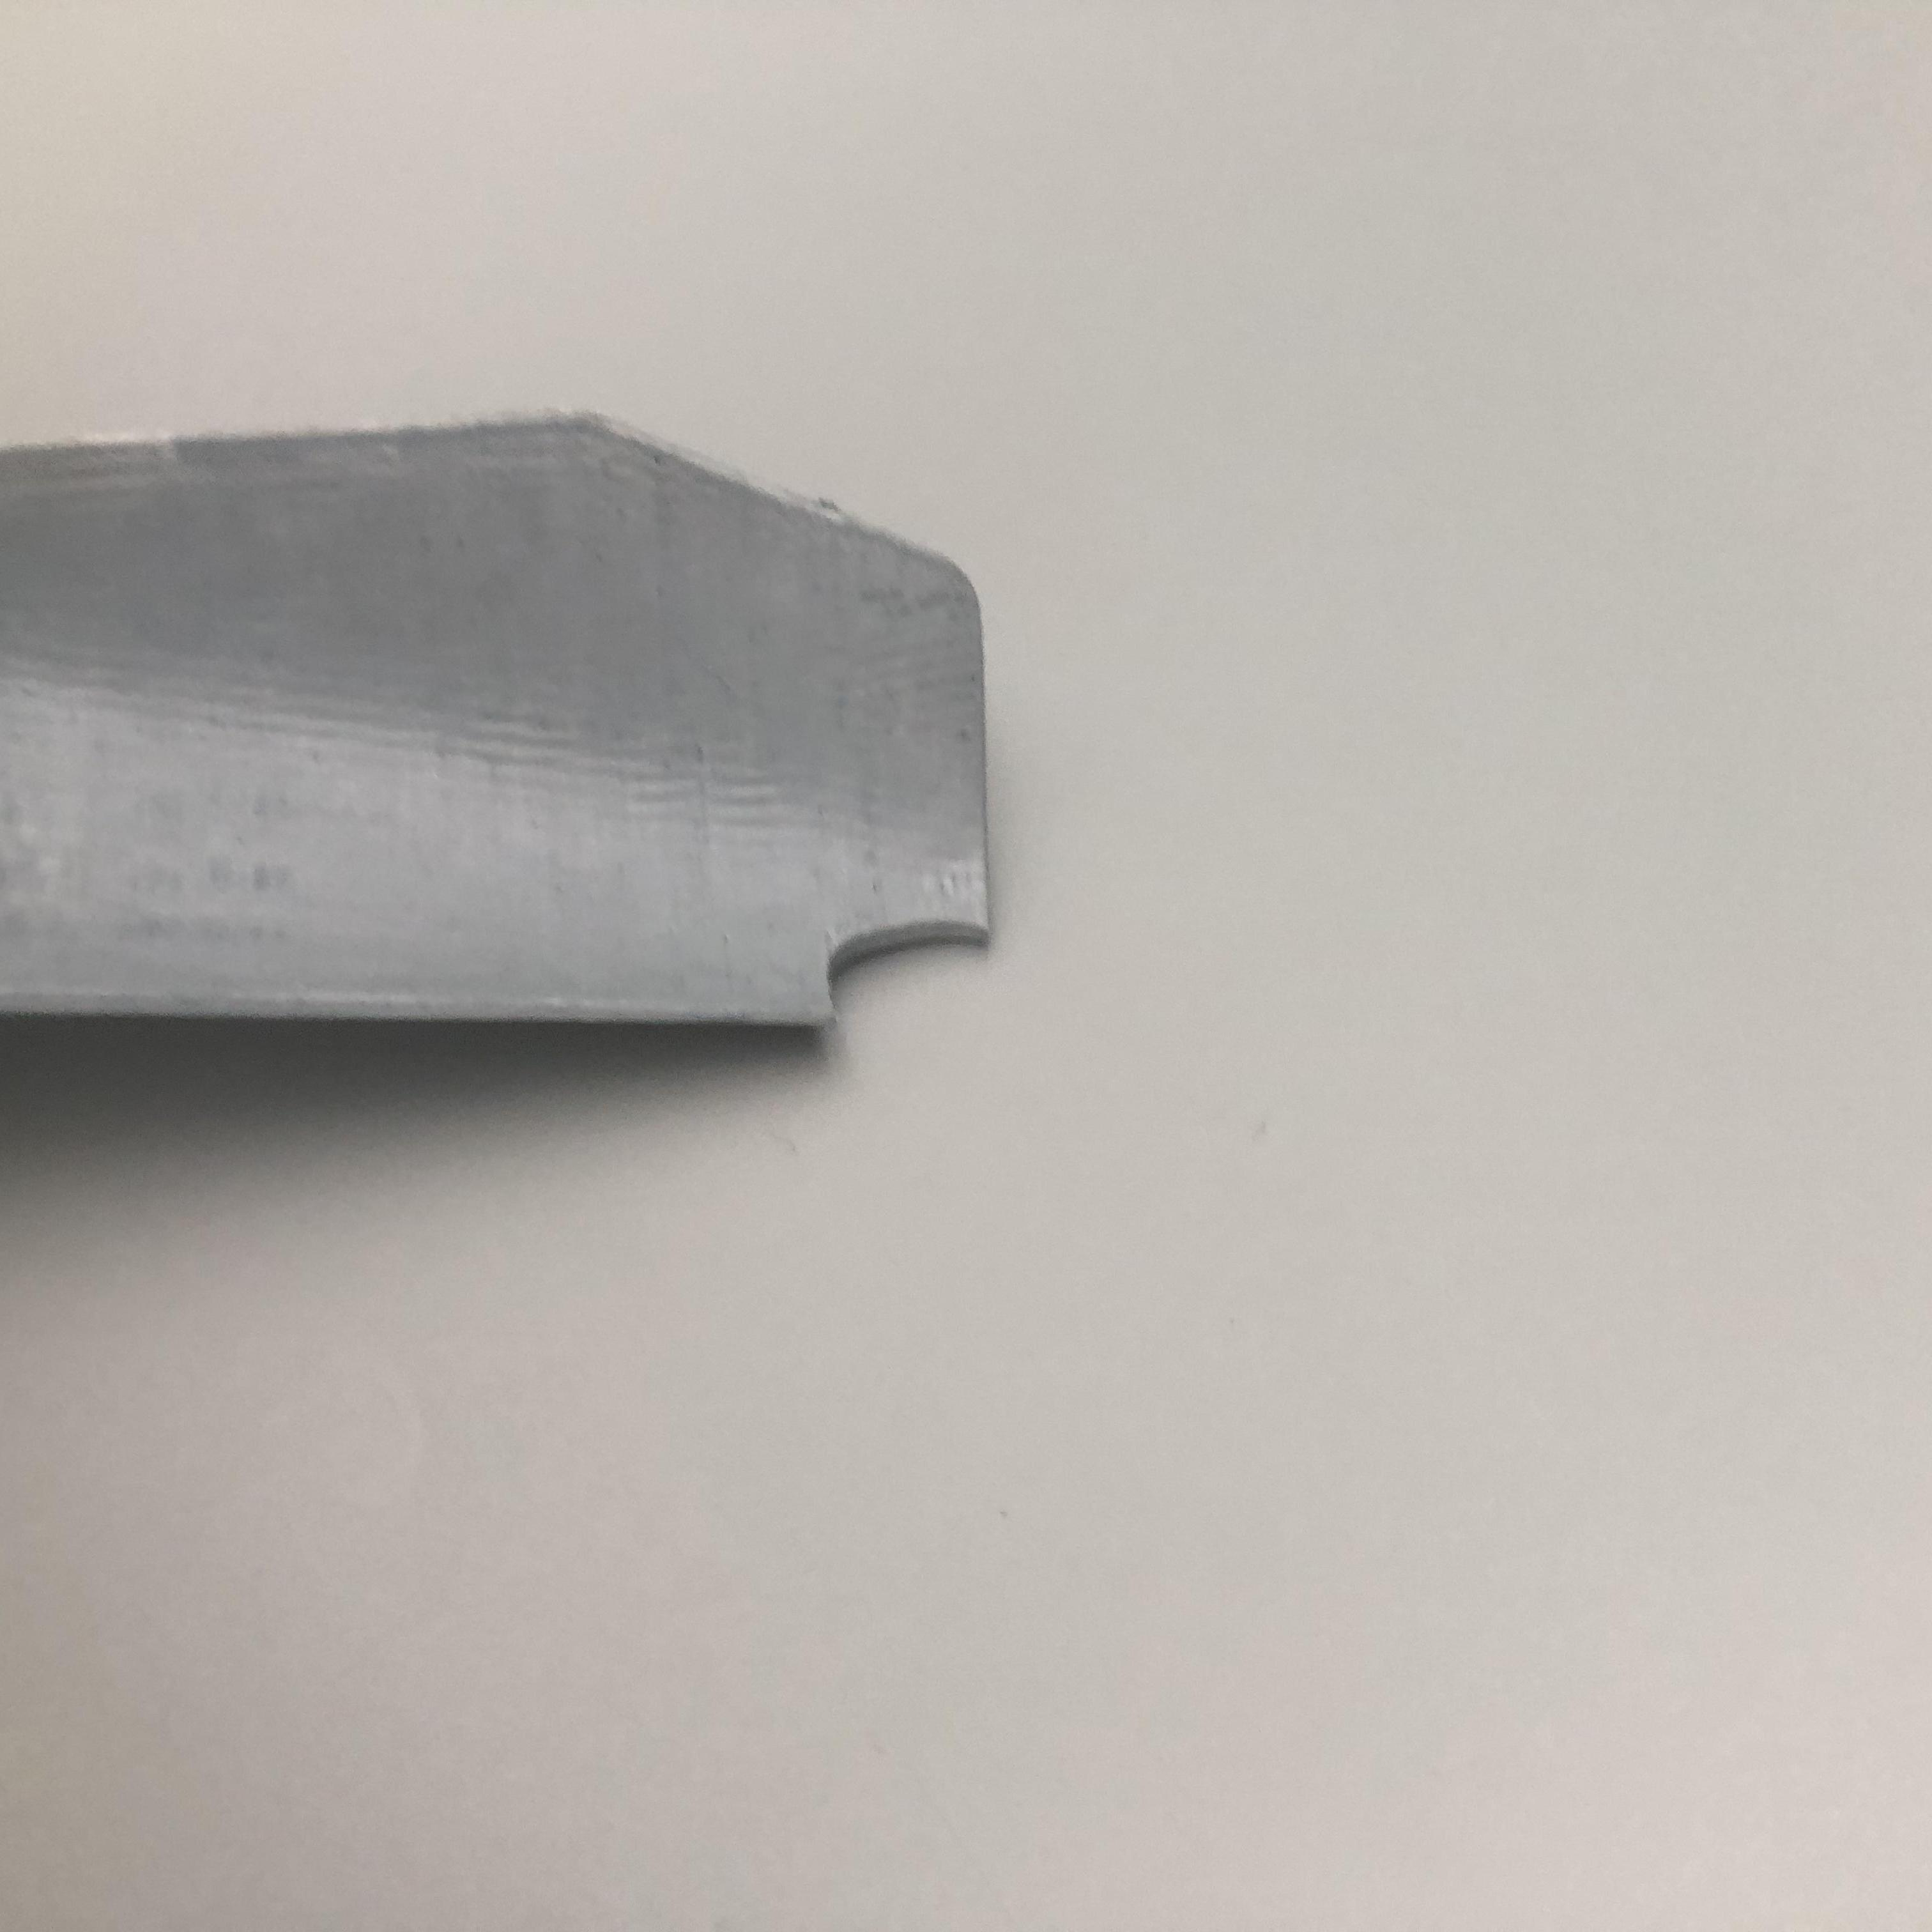fracture: (823, 895, 993, 1047)
